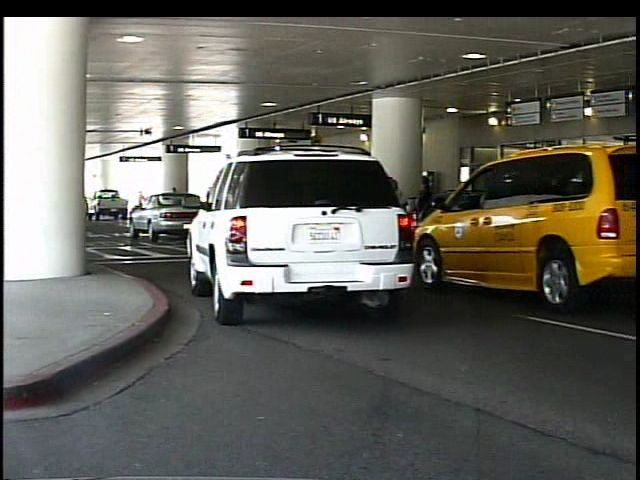car: (195, 154, 417, 311), (426, 148, 640, 307), (130, 189, 191, 246)
